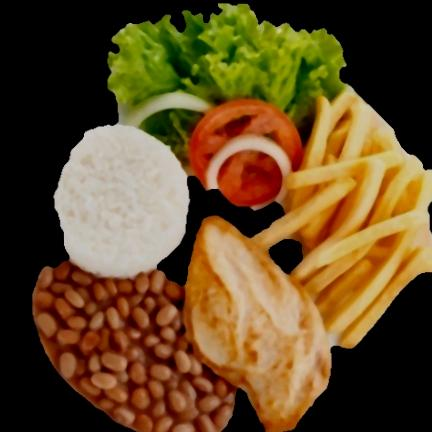beans: (33, 262, 235, 432)
chicken: (184, 216, 331, 432)
potato: (256, 94, 432, 347)
rice: (54, 125, 189, 277)
salad: (108, 3, 345, 139), (137, 107, 199, 164)
tomato: (190, 99, 302, 186), (216, 147, 281, 205)
